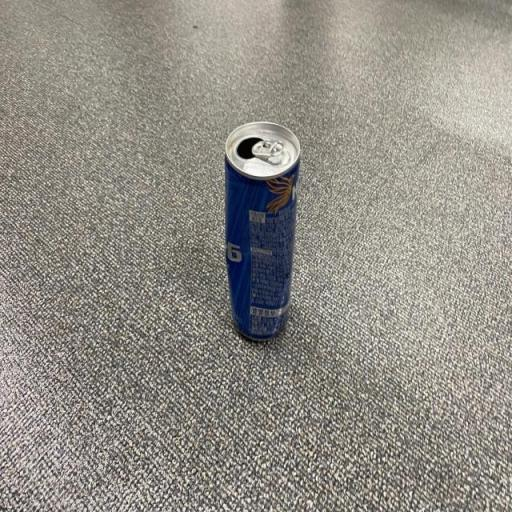metal: (210, 92, 309, 358)
